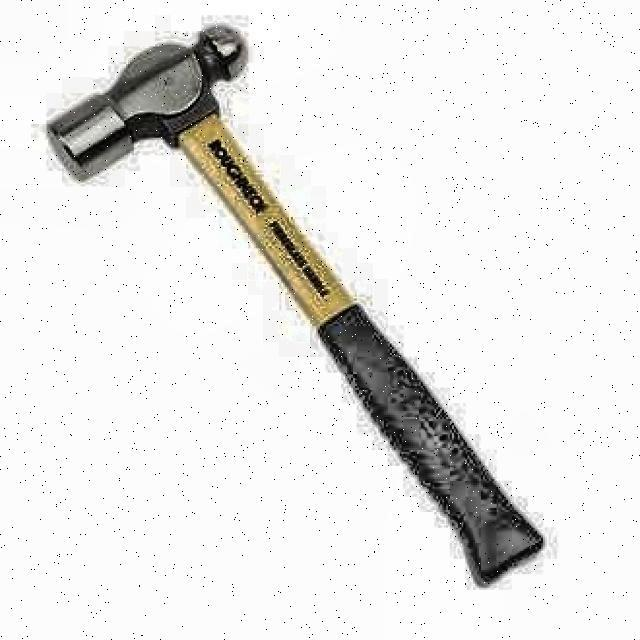hammer: (43, 22, 547, 588)
